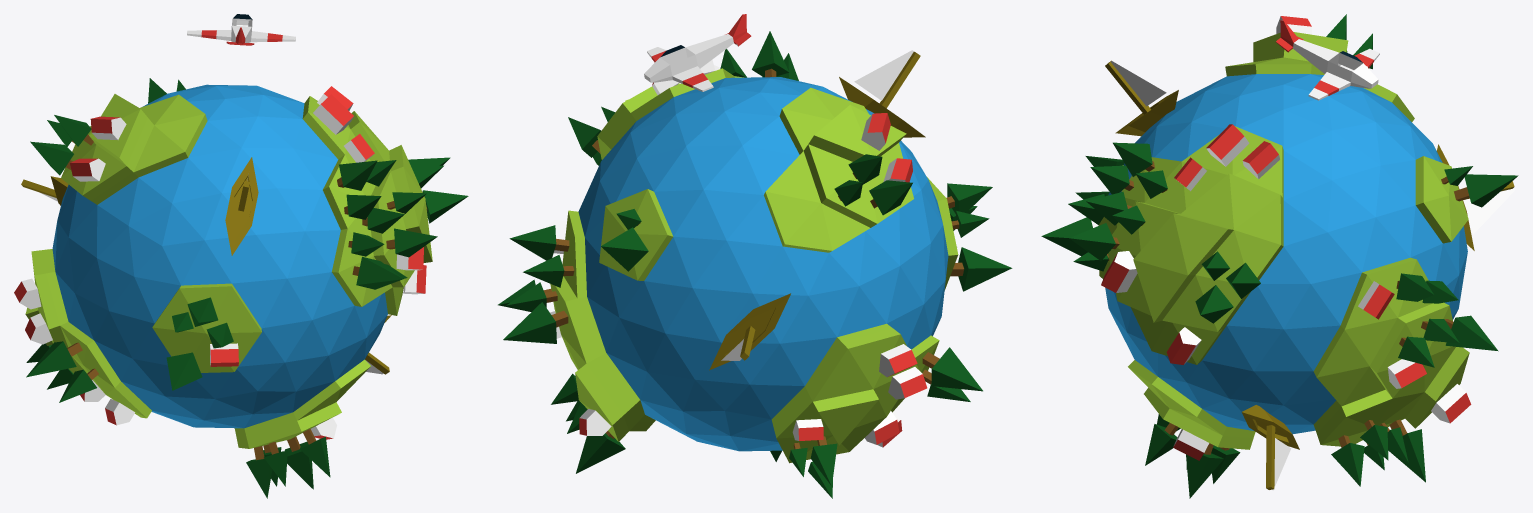
The model's file is planet.glb.
The picture shows the model from 3 angles, left to right: view 1: azimuth 30°, elevation 25°; view 2: azimuth 150°, elevation 25°; view 3: azimuth 270°, elevation 25°; orthographic projection. The views are drawn at different scales.
Parts seen in each view (by area): view 1: earth, tree.001, house, boat, airplane, boat.002; view 2: earth, tree.001, house, airplane, boat, boat.002; view 3: earth, tree.001, house, airplane, boat, boat.001, boat.002.
Boxes of the visible parts, left/top/right/bottom form: earth: left=25, top=84, right=432, bottom=448; tree.001: left=26, top=78, right=468, bottom=498; house: left=14, top=86, right=426, bottom=439; boat: left=225, top=157, right=258, bottom=255; airplane: left=187, top=14, right=295, bottom=45; boat.002: left=21, top=176, right=68, bottom=205; earth: left=550, top=68, right=958, bottom=463; tree.001: left=498, top=31, right=1012, bottom=498; house: left=543, top=59, right=957, bottom=447; airplane: left=644, top=14, right=751, bottom=91; boat: left=839, top=50, right=925, bottom=137; boat.002: left=709, top=293, right=790, bottom=370; earth: left=1098, top=32, right=1469, bottom=449; tree.001: left=1041, top=14, right=1518, bottom=498; house: left=1101, top=16, right=1471, bottom=460; airplane: left=1276, top=20, right=1379, bottom=100; boat: left=1105, top=60, right=1178, bottom=136; boat.001: left=1241, top=405, right=1299, bottom=490; boat.002: left=1437, top=144, right=1514, bottom=250.
Bounding box in the file's own units: 2.7 × 2.77 × 2.59.
